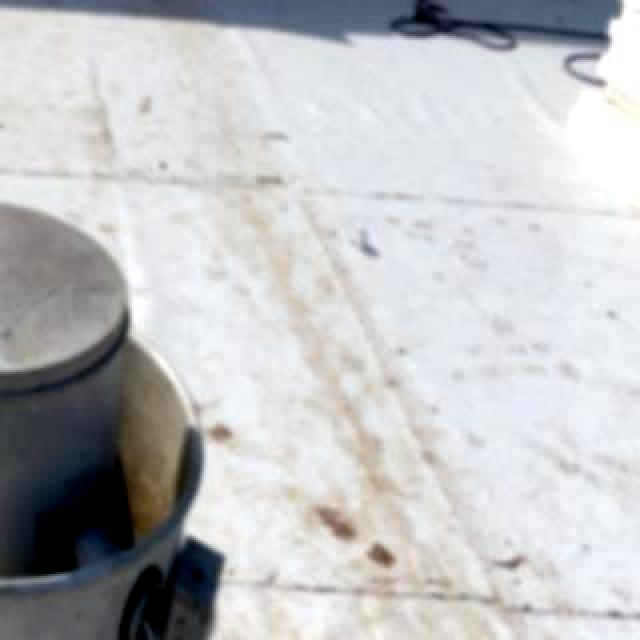GRAVITY-VENT: (0, 188, 244, 640)
